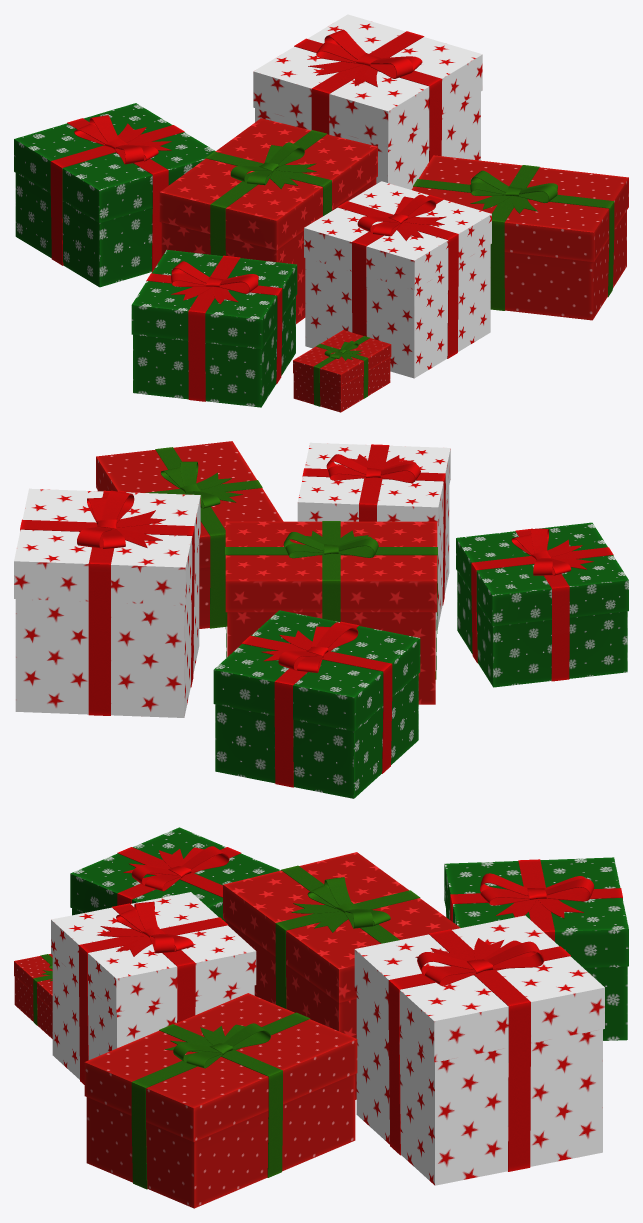
File: Christmas_Gifts.fbx
3 views of the same model, one above another, from view 1: azimuth 30°, elevation 25°; view 2: azimuth 150°, elevation 25°; view 3: azimuth 270°, elevation 25° (orthographic). The views are drawn at different scales.
Visible parts, largest first — view 1: Christmas_Gift_Extra, Christmas_Gift_01, Christmas_Gift_04, Christmas_Gift_02, Christmas_Gift_03; view 2: Christmas_Gift_Extra, Christmas_Gift_02, Christmas_Gift_03, Christmas_Gift_01, Christmas_Gift_04; view 3: Christmas_Gift_Extra, Christmas_Gift_04, Christmas_Gift_01, Christmas_Gift_03, Christmas_Gift_02.
Part boxes in pixels (x1,y1,x2,y2): Christmas_Gift_Extra: (14,14,482,412); Christmas_Gift_01: (304,181,491,378); Christmas_Gift_04: (411,155,628,320); Christmas_Gift_02: (131,250,297,407); Christmas_Gift_03: (159,118,377,323); Christmas_Gift_Extra: (14,488,420,798); Christmas_Gift_02: (456,522,628,687); Christmas_Gift_03: (225,521,437,704); Christmas_Gift_01: (297,442,450,630); Christmas_Gift_04: (96,441,283,628); Christmas_Gift_Extra: (14,857,628,1185); Christmas_Gift_04: (84,993,357,1208); Christmas_Gift_01: (51,892,256,1084); Christmas_Gift_03: (223,852,460,1099); Christmas_Gift_02: (70,827,280,921).
Bounding box in the file's own units: 133 × 40.53 × 123.
Materials: 1 (1 with a texture image).
